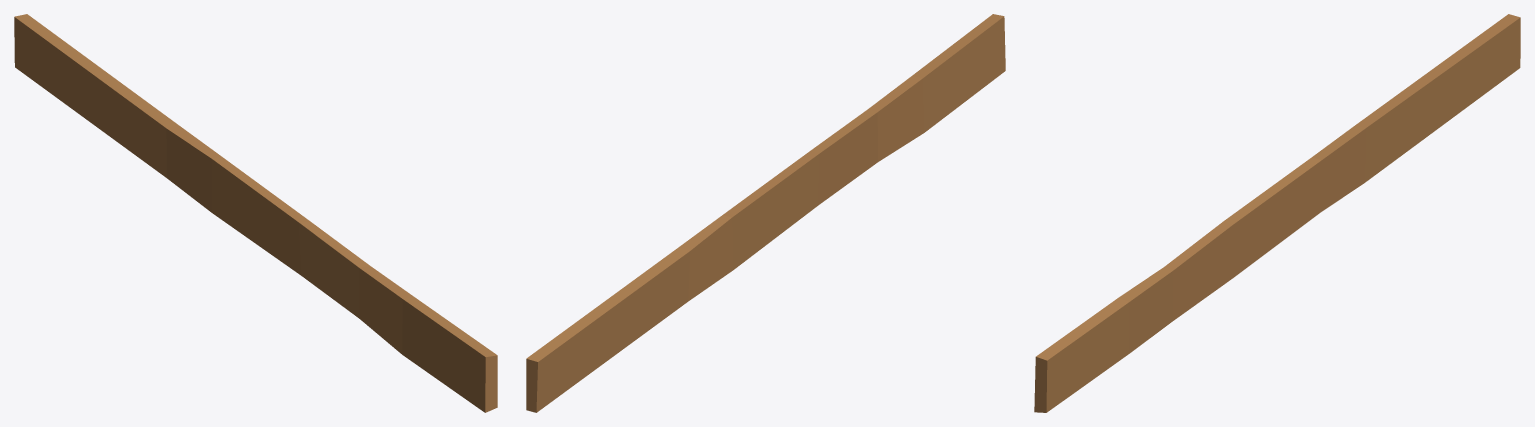
The model's file is Wood_Beam_Side_01.fbx.
3 renders of one model, left to right at view 1: azimuth 30°, elevation 25°; view 2: azimuth 150°, elevation 25°; view 3: azimuth 330°, elevation 25°, orthographic.
Visible parts, largest first — view 1: Wood_Beam_Side_01; view 2: Wood_Beam_Side_01; view 3: Wood_Beam_Side_01.
Part boxes in pixels (x1,y1,x2,y2): Wood_Beam_Side_01: [14, 14, 497, 412]; Wood_Beam_Side_01: [526, 14, 1005, 412]; Wood_Beam_Side_01: [1034, 14, 1520, 412].
Bounding box in the file's own units: 3202 × 52.19 × 214.
